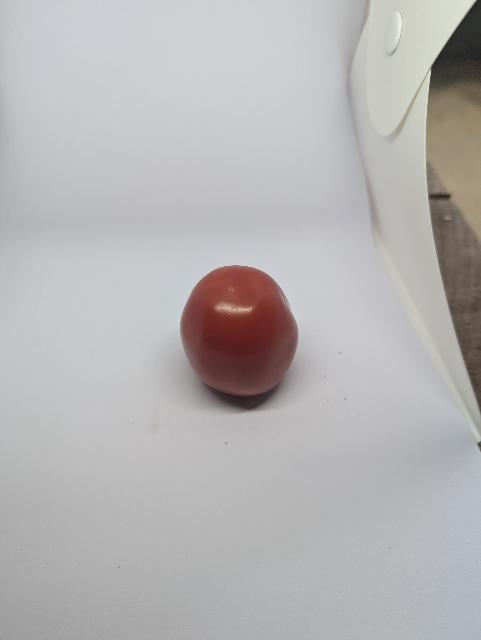red: (176, 262, 304, 407)
